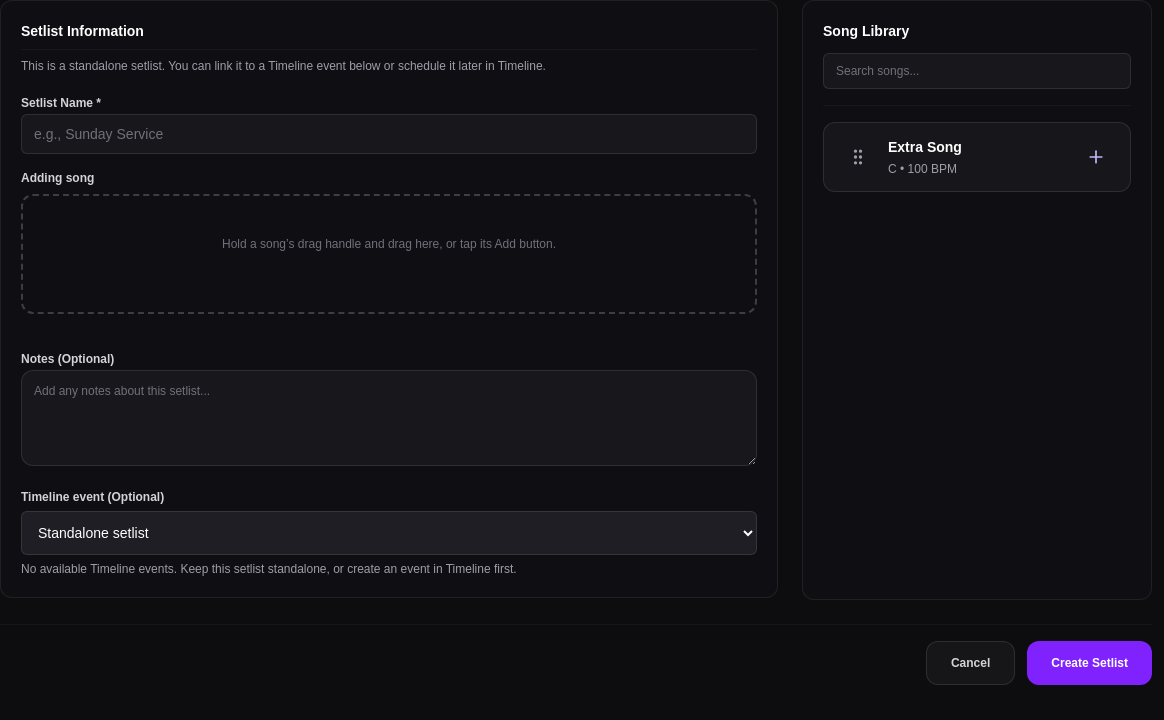
Setlist song selection › supports accessible adding, duplicate prevention, removal and submission IDs
Step 1. Click the button named "Add Extra Song" → [1096, 157], box [1074,135,1118,179]
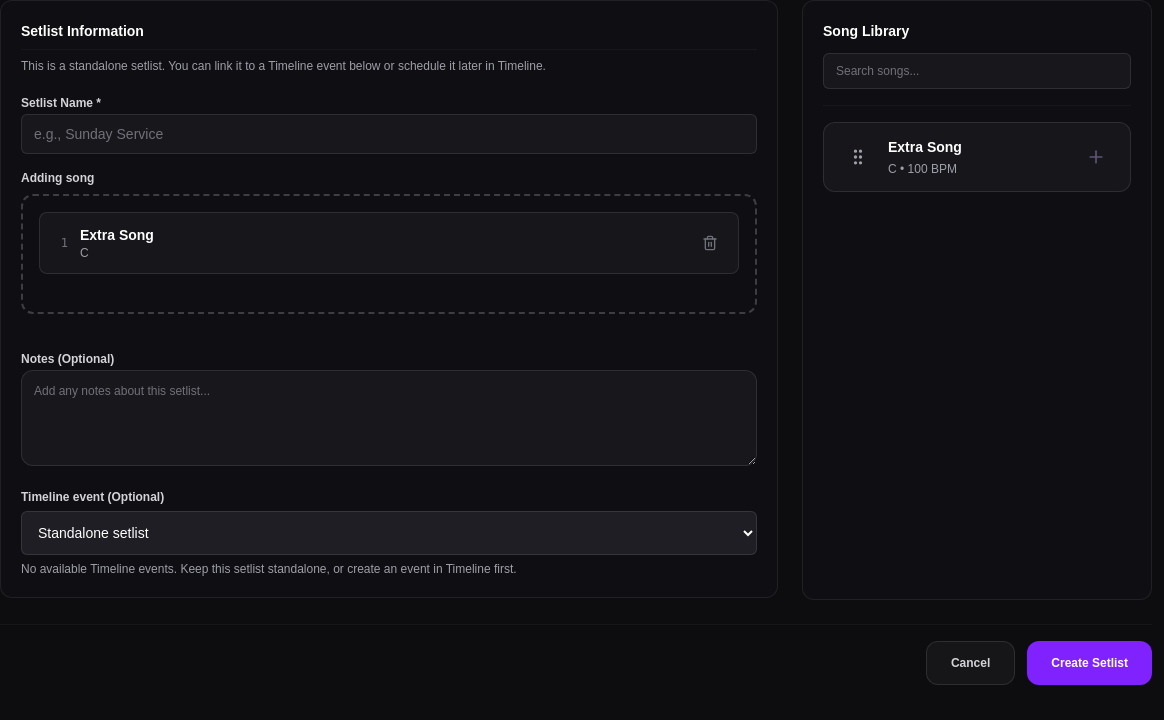
Now the button named "Add Extra Song" is disabled, box [1074,135,1118,179]
Step 2. Click the button named "Remove song" → [710, 243], box [694,227,726,259]
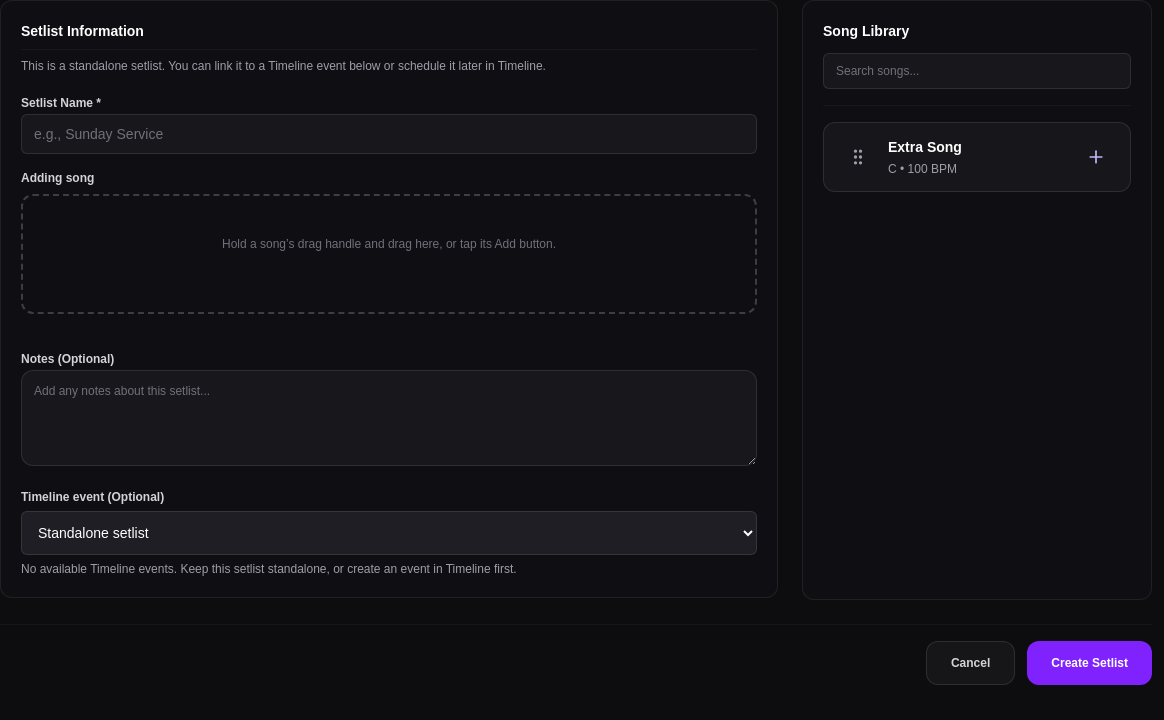
Now the button named "Add Extra Song" is enabled, box [1074,135,1118,179]
